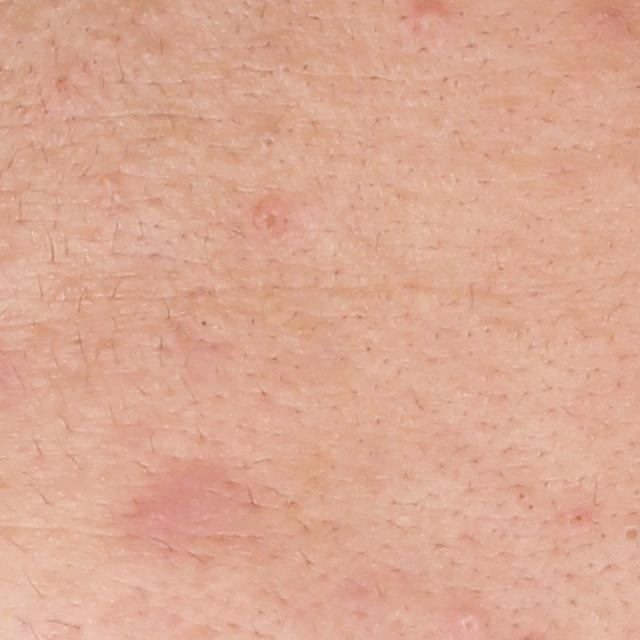comedo: (256, 209, 287, 243), (253, 131, 282, 154), (276, 59, 299, 81)
